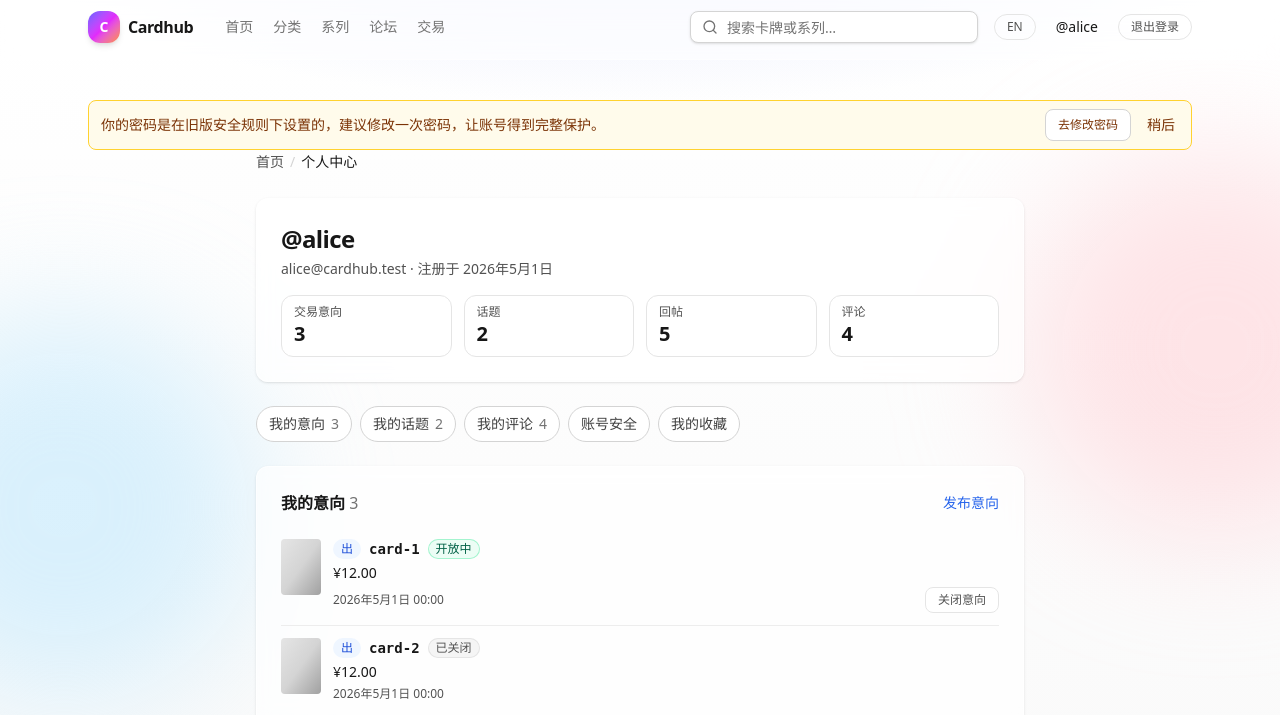
Scenario: MePage › shows the legacy password hint on account security and hides the banner after Later
The width and height of the screenshot is (1280, 715).
Expected: the message shows "你的密码是在旧版安全规则下设置的，建议修改一次密码，让账号得到完整保护。", top-left (101, 115), bottom-right (605, 134)
Click the button "稍后": {"x": 1161, "y": 125} top-left (1143, 113), bottom-right (1179, 137)
(page scrolled)
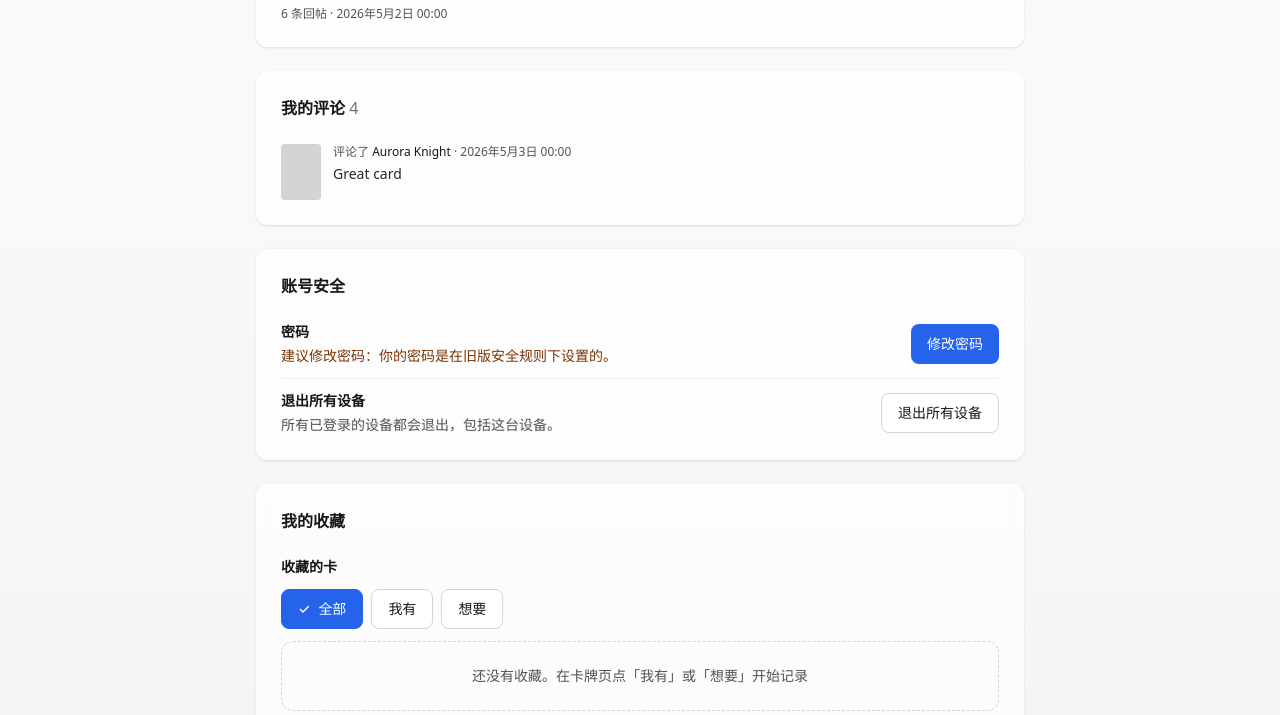
Expected: the text "建议修改密码：你的密码是在旧版安全规则下设置的。" is shown, top-left (281, 346), bottom-right (617, 366)
Expected: the text "旧版安全规则下设置的，建议修改一次密码" is gone
